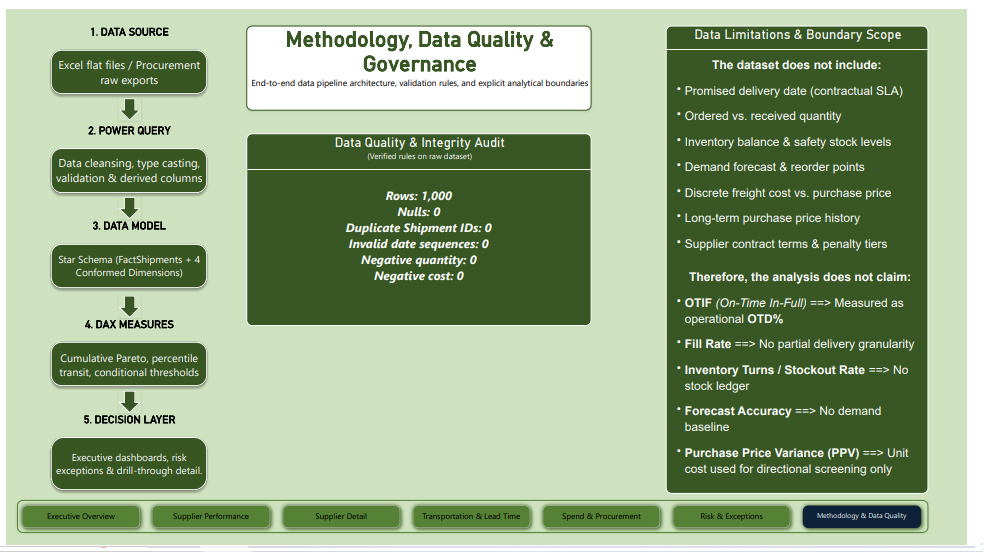

Layout of this report page (visuals, bound fields, positions):
{"tool":"powerbi","page":{"name":"Methodology & Data Quality","canvas":[1920,1080],"ordinal":6},"visuals":[{"type":"shape","title":"1. DATA SOURCE","box":[82,33,329,145],"z":0},{"type":"shape","title":"2. POWER QUERY","box":[82,230,329,145],"z":1000},{"type":"shape","title":"3. DATA MODEL","box":[82,420,329,145],"z":2000},{"type":"shape","title":"4. DAX MEASURES","box":[82,617,329,145],"z":3000},{"type":"shape","title":"5. DECISION LAYER","box":[82,807,329,161],"z":4000},{"type":"shape","box":[224,178,46.4,45.5],"z":5000},{"type":"shape","box":[224,375,46.4,45.5],"z":6000},{"type":"shape","box":[224,572,46.4,45.5],"z":7000},{"type":"shape","box":[224,762,46.4,45.5],"z":8000},{"type":"textbox","title":"Data Quality & Integrity Audit","box":[480,247.5,690,385],"z":9000},{"type":"textbox","title":"Data Limitations & Boundary Scope","box":[1318,33,525,935],"z":10000},{"type":"textbox","title":"Methodology, Data Quality & Governance","box":[480,32.5,690,170],"z":11000},{"type":"pageNavigator","box":[22,980,1821,66],"z":11001}]}

Visuals, with their boxes in screenshot pixels (x1, y1, x2, y2), scaled from the page's 1920x1080 canvas onto the 984x552 screenshot:
"1. DATA SOURCE" shape: locate(42, 17, 211, 91)
"2. POWER QUERY" shape: locate(42, 118, 211, 192)
"3. DATA MODEL" shape: locate(42, 215, 211, 289)
"4. DAX MEASURES" shape: locate(42, 315, 211, 389)
"5. DECISION LAYER" shape: locate(42, 412, 211, 495)
shape: locate(115, 91, 139, 114)
shape: locate(115, 192, 139, 215)
shape: locate(115, 292, 139, 316)
shape: locate(115, 389, 139, 413)
"Data Quality & Integrity Audit" textbox: locate(246, 126, 600, 323)
"Data Limitations & Boundary Scope" textbox: locate(675, 17, 945, 495)
"Methodology, Data Quality & Governance" textbox: locate(246, 17, 600, 103)
pageNavigator: locate(11, 501, 945, 535)
